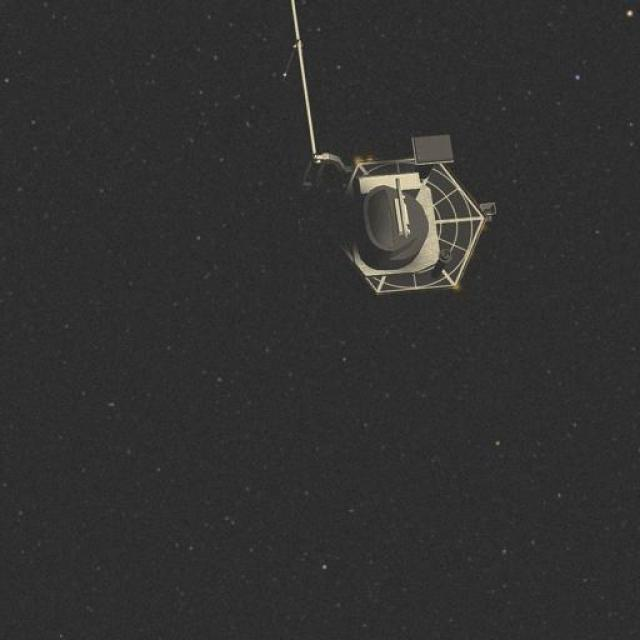earth_observation_sat_1: (266, 109, 524, 305)
